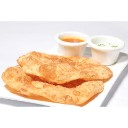poori: (3, 67, 105, 103), (18, 48, 112, 83)
